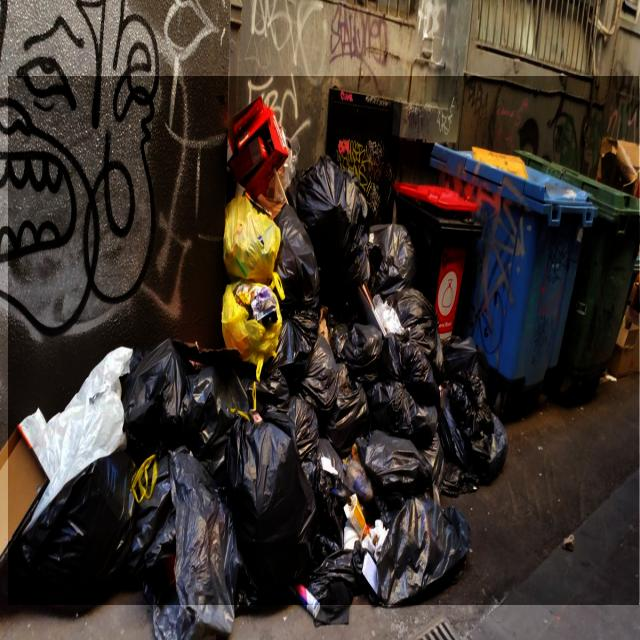dumping: (8, 76, 639, 605)
